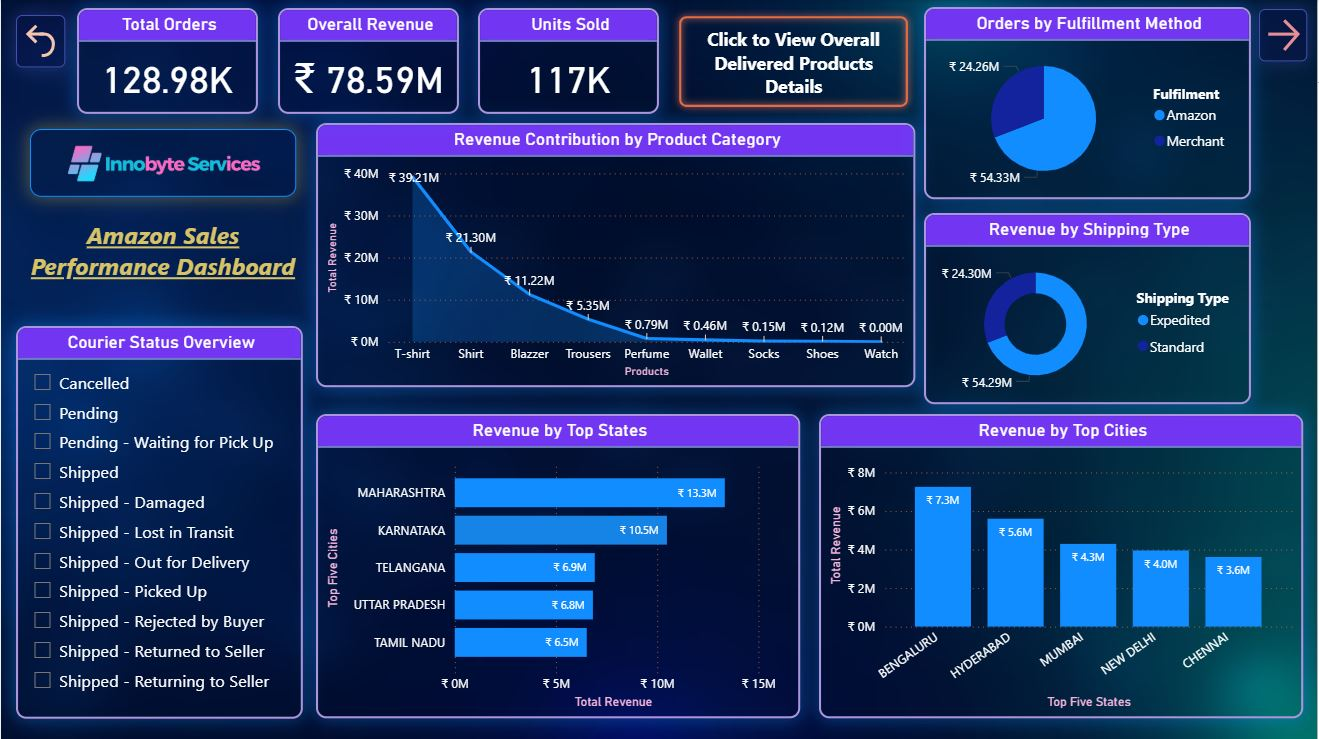

What the dashboard file says about the page in this screenshot:
{"tool":"powerbi","page":{"name":"Overall Sales & Order Performance","canvas":[1280,720],"ordinal":0},"visuals":[{"type":"slicer","title":"Courier Status Overview","fields":{"Values":["Amazon Sale Report.Status"]},"box":[15,317.8,278.8,381.7],"z":0},{"type":"lineChart","title":"Revenue Contribution by Product Category","fields":{"Category":["Amazon Sale Report.Category"],"Y":["Sum(Amazon Sale Report.Amount)"]},"box":[306.8,120.9,582.5,256.8],"z":1000},{"type":"pieChart","title":"Orders by Fulfillment Method","fields":{"Category":["Amazon Sale Report.Fulfilment"],"Y":["Sum(Amazon Sale Report.Amount)"]},"box":[897.3,8,317.8,186.9],"z":2000},{"type":"donutChart","title":"Revenue by Shipping Type","fields":{"Y":["Sum(Amazon Sale Report.Amount)"],"Category":["Amazon Sale Report.ship-service-level"]},"box":[897.3,207.8,317.8,185.9],"z":3000},{"type":"card","title":"Total Orders","fields":{"Values":["CountNonNull(Amazon Sale Report.Order ID)"]},"box":[73.9,9,176,103.1],"z":4000},{"type":"card","title":"Overall Revenue","fields":{"Values":["Sum(Amazon Sale Report.Amount)"]},"box":[269.5,9,176,103.1],"z":5000},{"type":"clusteredBarChart","title":"Revenue by Top States","fields":{"Category":["Amazon Sale Report.ship-state"],"Y":["Sum(Amazon Sale Report.Amount)"]},"box":[306.8,403.7,470.6,295.8],"z":6000},{"type":"columnChart","title":"Revenue by Top Cities","fields":{"Category":["Amazon Sale Report.ship-city"],"Y":["Sum(Amazon Sale Report.Amount)"]},"box":[795.4,403.7,470.6,295.8],"z":7000},{"type":"card","title":"Units Sold","fields":{"Values":["Amazon Sale Report.Total Quantity"]},"box":[464.2,9,176,103.1],"z":8000},{"type":"actionButton","box":[14.2,16,48,50.7],"z":9000},{"type":"actionButton","box":[652.6,9.9,236.4,102.2],"z":10000},{"type":"actionButton","box":[11.7,192.6,291.8,103.1],"z":11000},{"type":"image","box":[28.2,126.4,258.7,66.1],"z":12000},{"type":"actionButton","box":[1224,10,47,51],"z":13000}]}

Visuals, with their boxes in screenshot pixels (x1, y1, x2, y2), scaled from the page's 1280x720 canvas onto the 1319x739 screenshot:
"Courier Status Overview" slicer: select_region(15, 326, 303, 718)
"Revenue Contribution by Product Category" lineChart: select_region(316, 124, 916, 388)
"Orders by Fulfillment Method" pieChart: select_region(925, 8, 1252, 200)
"Revenue by Shipping Type" donutChart: select_region(925, 213, 1252, 404)
"Total Orders" card: select_region(76, 9, 258, 115)
"Overall Revenue" card: select_region(278, 9, 459, 115)
"Revenue by Top States" clusteredBarChart: select_region(316, 414, 801, 718)
"Revenue by Top Cities" columnChart: select_region(820, 414, 1305, 718)
"Units Sold" card: select_region(478, 9, 660, 115)
actionButton: select_region(15, 16, 64, 68)
actionButton: select_region(672, 10, 916, 115)
actionButton: select_region(12, 198, 313, 304)
image: select_region(29, 130, 296, 198)
actionButton: select_region(1261, 10, 1310, 63)
